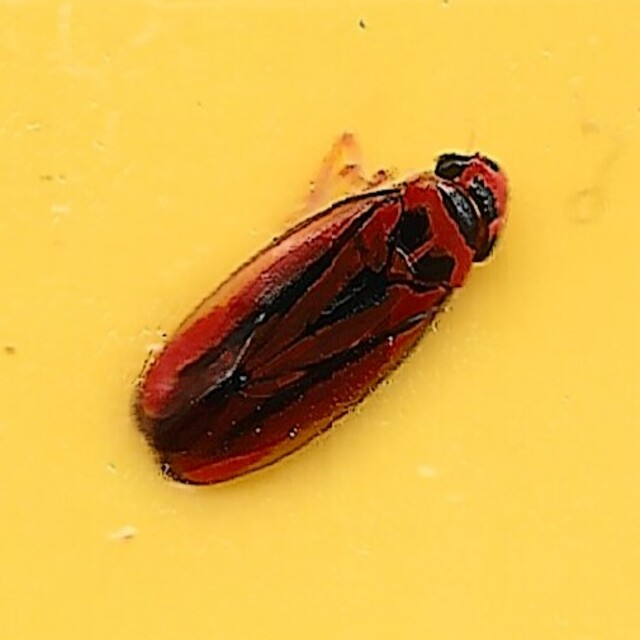Hemiptera: (127, 148, 513, 492)
